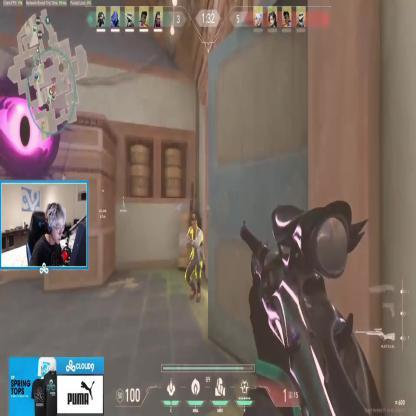enemy: (184, 214, 204, 304)
enemy_head: (190, 216, 198, 232)
